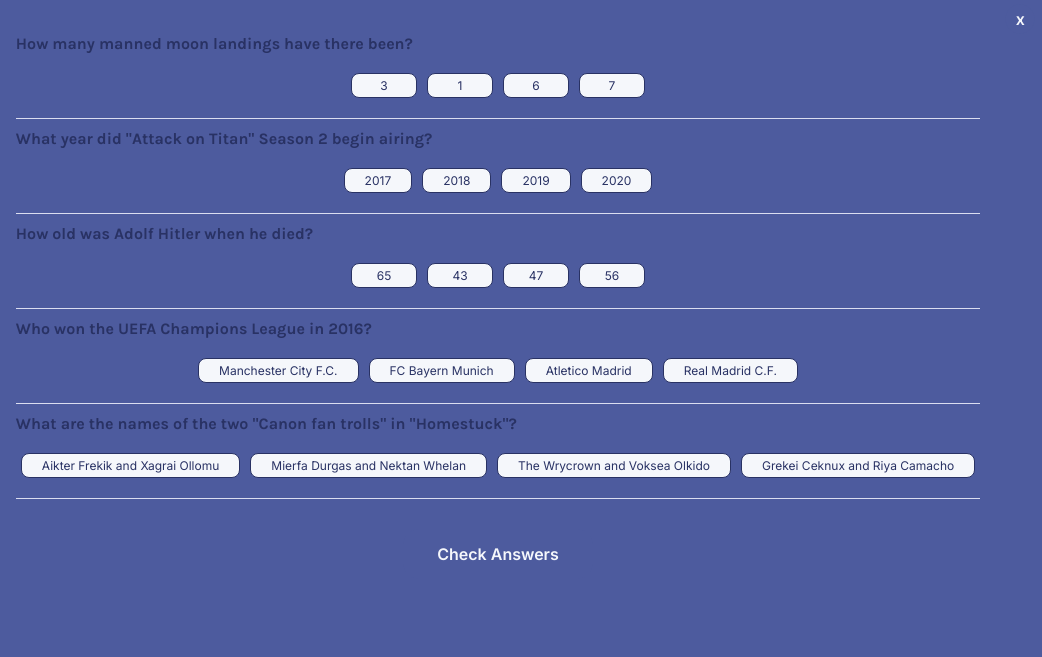
Questions container component › renders error when questions not selected
The width and height of the screenshot is (1042, 657).
Click the button "Check Answers" at [498, 554], box [403,529,593,579]
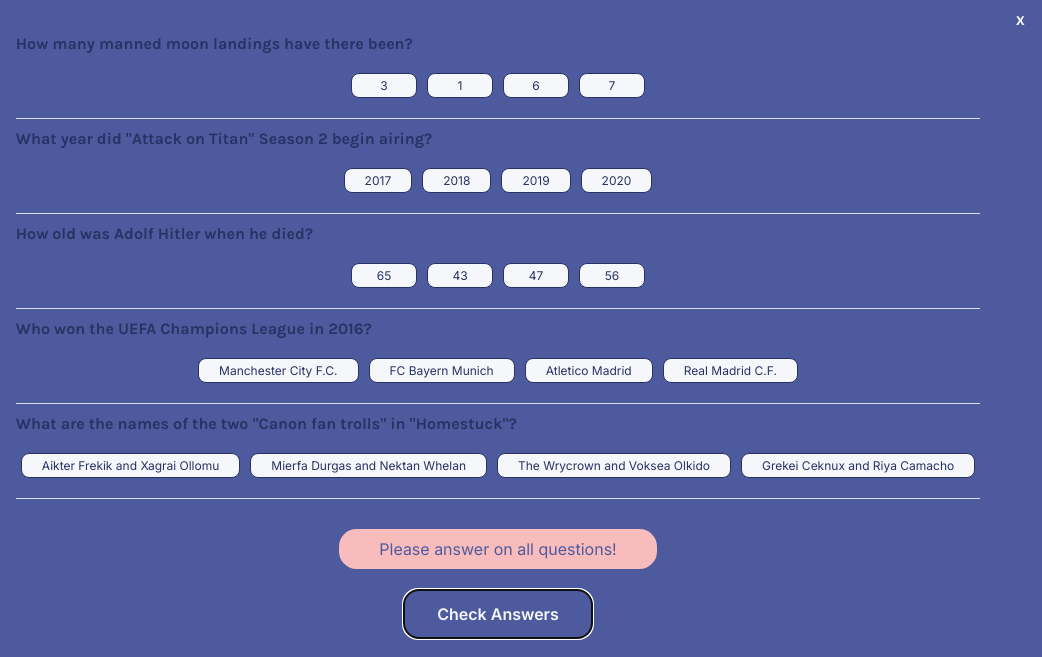
Result: the text "Please answer on all questions!" is shown at [339,529,657,569]
